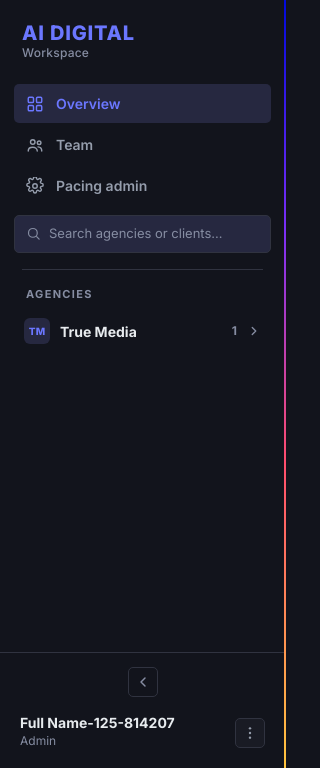
Test: Sidebar › should not ask for more clients when the embedded list is already all of them
Click the link "TM True Media 1" at [98, 331], box 14,310 -> 271,352
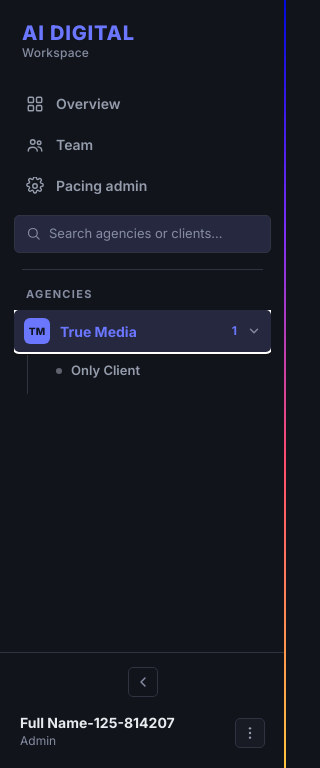
Expected: the link "Only Client" is shown, 56,362 -> 140,378
